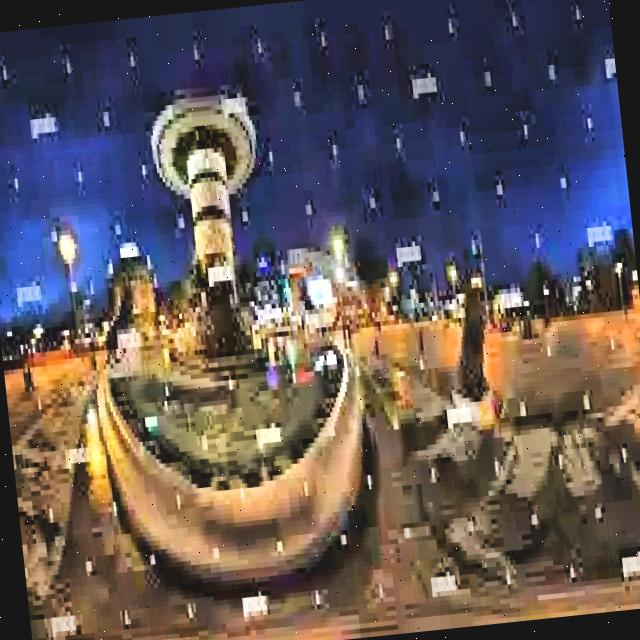alexander the great monument: (47, 0, 386, 600)
